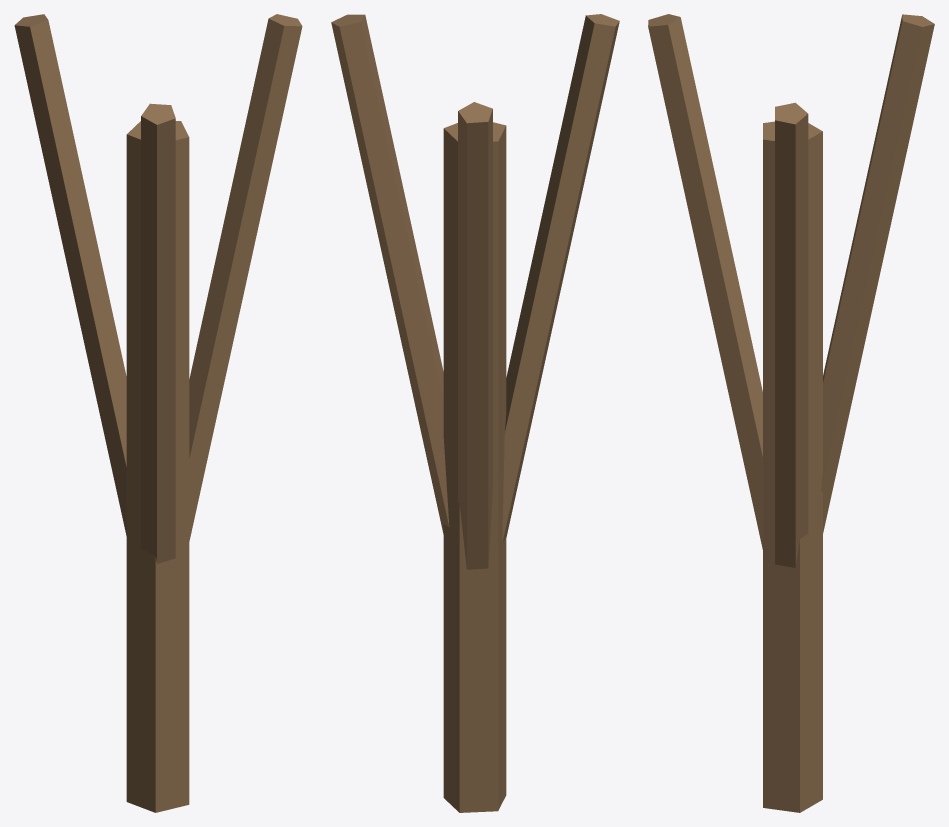
File: plant_wild_apple_dormant.glb
3 renders of one model, left to right at view 1: azimuth 30°, elevation 25°; view 2: azimuth 150°, elevation 25°; view 3: azimuth 270°, elevation 25°, orthographic.
Visible parts, largest first — view 1: plant_wild_apple_dormant; view 2: plant_wild_apple_dormant; view 3: plant_wild_apple_dormant.
Part boxes in pixels (bbox=[...]): plant_wild_apple_dormant: bbox=[14, 14, 302, 812]; plant_wild_apple_dormant: bbox=[331, 14, 619, 812]; plant_wild_apple_dormant: bbox=[648, 14, 934, 812].
Bounding box in the file's own units: 0.3468 × 1.13 × 0.3909.
